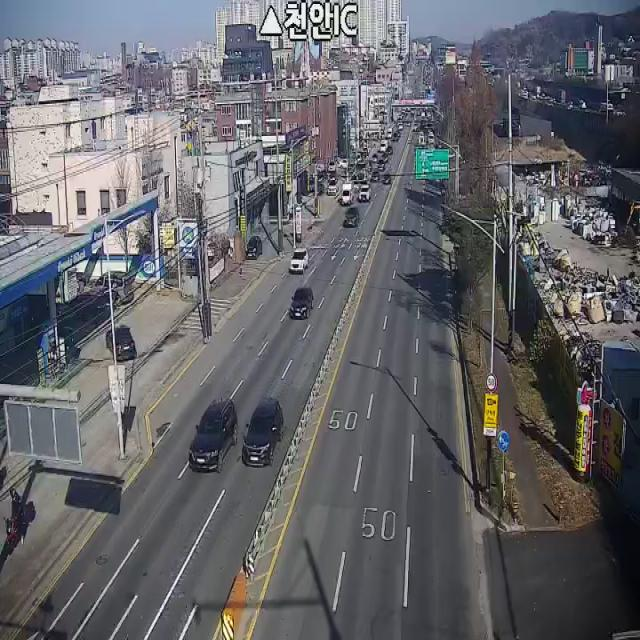Car: (188, 398, 238, 474), (241, 398, 284, 468), (96, 271, 133, 306), (106, 325, 135, 362), (290, 287, 314, 319), (290, 248, 310, 275), (245, 236, 263, 260), (344, 206, 360, 227), (358, 185, 372, 202), (327, 178, 339, 196), (371, 170, 380, 182)
Truck: (342, 183, 354, 206)
